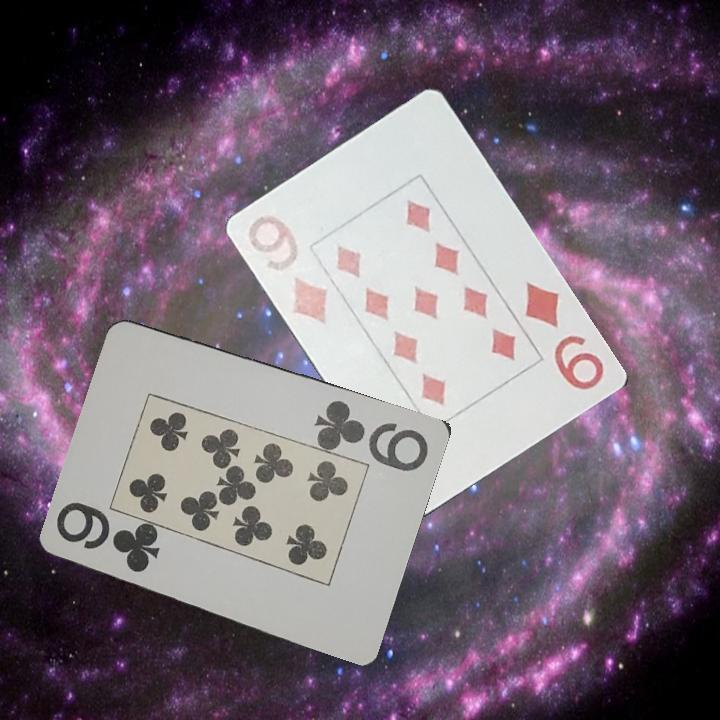9c: (311, 396, 432, 474), (53, 500, 164, 576)
9d: (239, 211, 332, 328), (522, 277, 608, 395)
